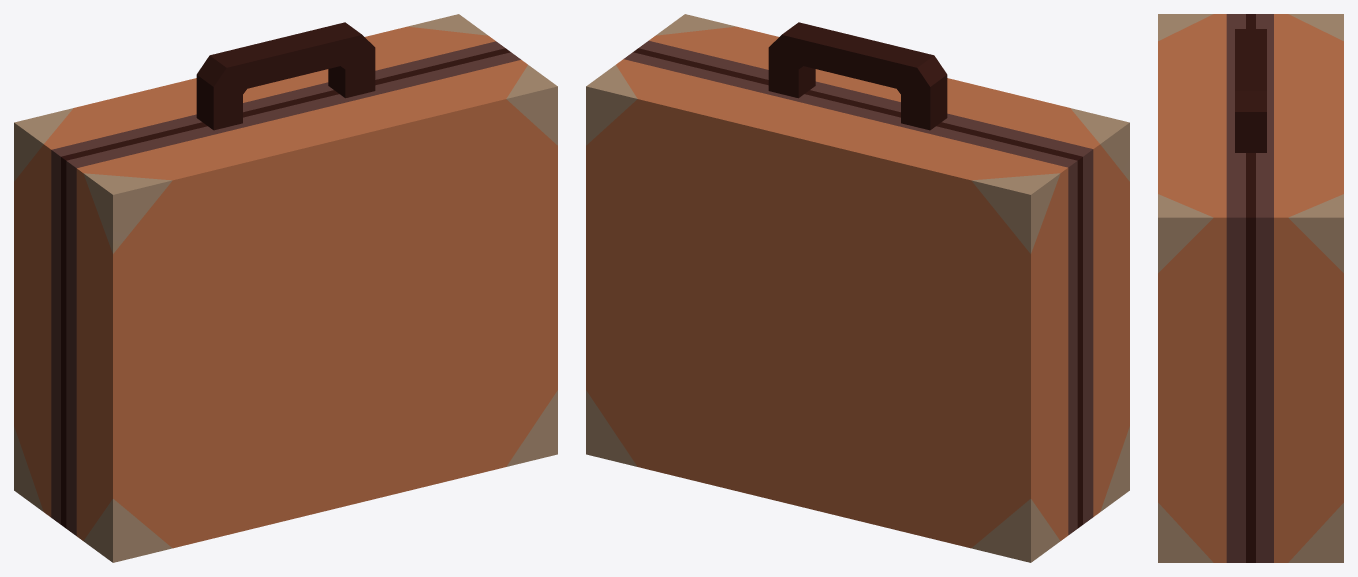
The model's file is suitcase.fbx.
The picture shows the model from 3 angles, left to right: view 1: azimuth 30°, elevation 25°; view 2: azimuth 150°, elevation 25°; view 3: azimuth 270°, elevation 25°; orthographic projection. The views are drawn at different scales.
Visible parts, largest first — view 1: suitcase; view 2: suitcase; view 3: suitcase.
Part boxes in pixels (x1,y1,x2,y2): suitcase: [14, 14, 557, 562]; suitcase: [586, 14, 1129, 562]; suitcase: [1158, 14, 1343, 562].
Size of the model in its own units: 126 by 115 by 48.39.
